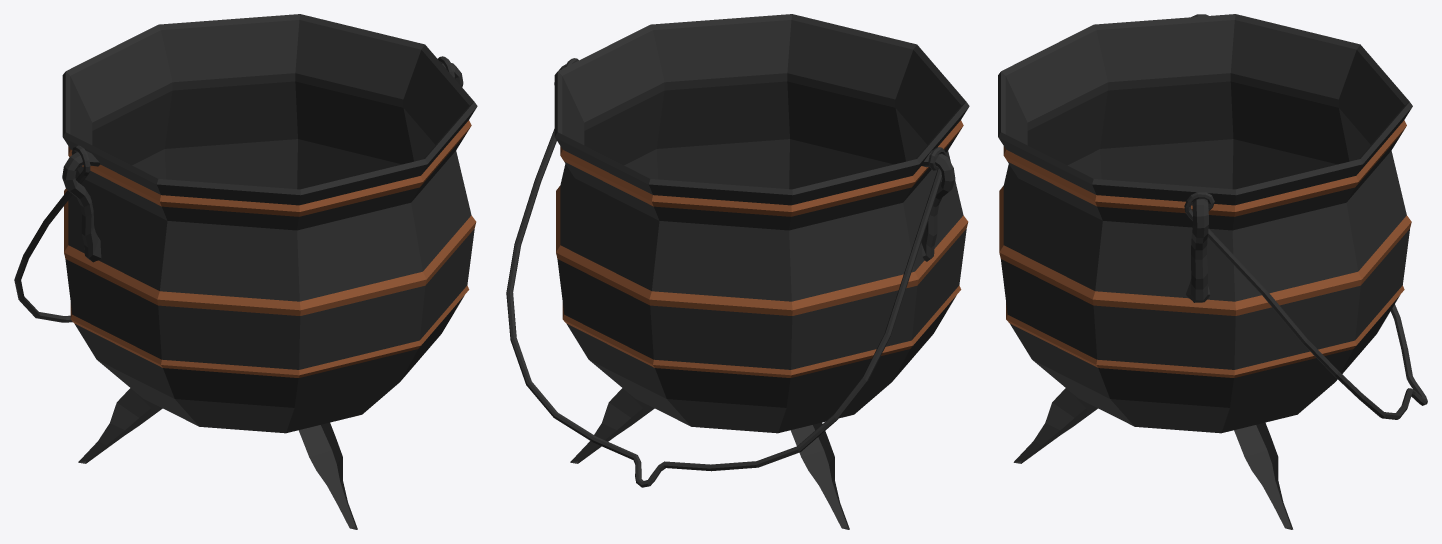
The model's file is cauldron.fbx.
The picture shows the model from 3 angles, left to right: view 1: azimuth 30°, elevation 25°; view 2: azimuth 150°, elevation 25°; view 3: azimuth 270°, elevation 25°; orthographic projection.
Parts seen in each view (by area): view 1: cauldron; view 2: cauldron; view 3: cauldron.
Boxes of the visible parts, x1,y1,x2,y2 form: cauldron: (14,14,477,529); cauldron: (506,14,969,529); cauldron: (998,14,1427,529).
Bounding box in the file's own units: 307 × 266 × 287.
